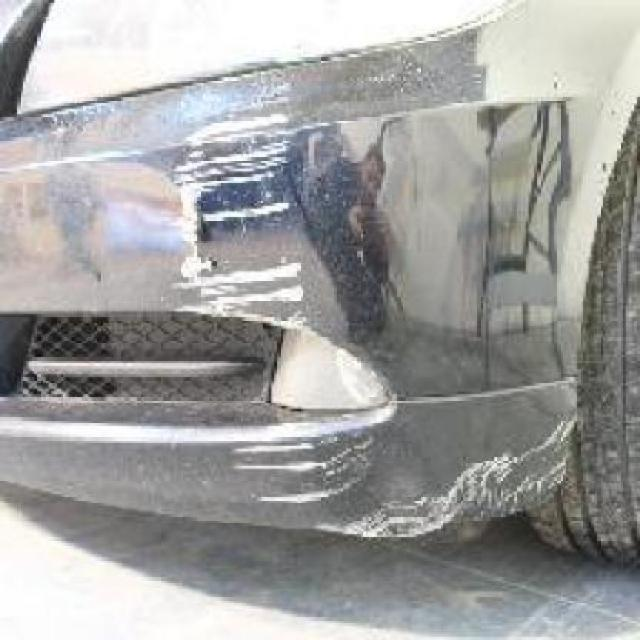dent-or-scratch: (158, 88, 317, 332), (238, 432, 564, 532)
